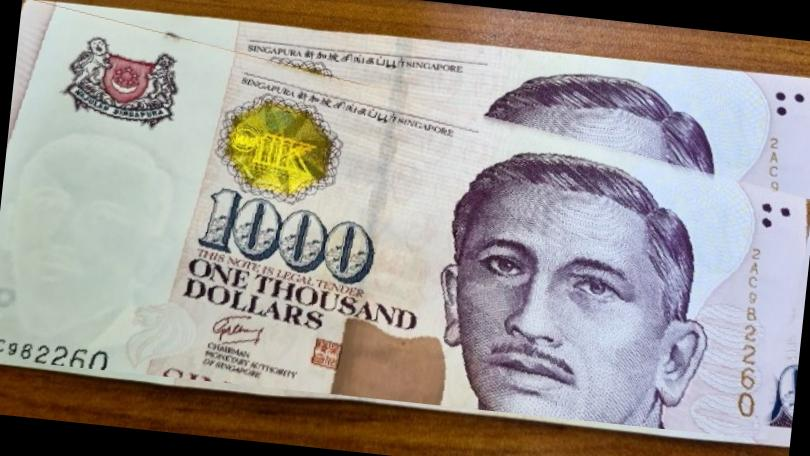1000SingaporeDollar: (0, 0, 810, 443)
